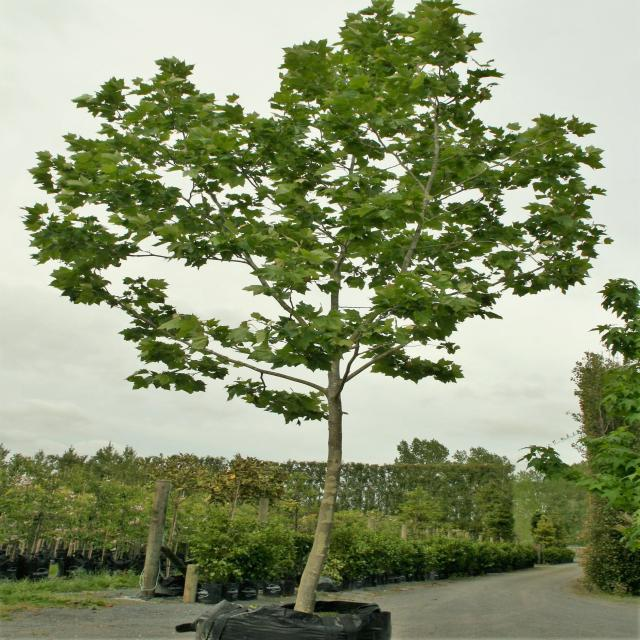Platinus acerifolia: (31, 1, 608, 602)
